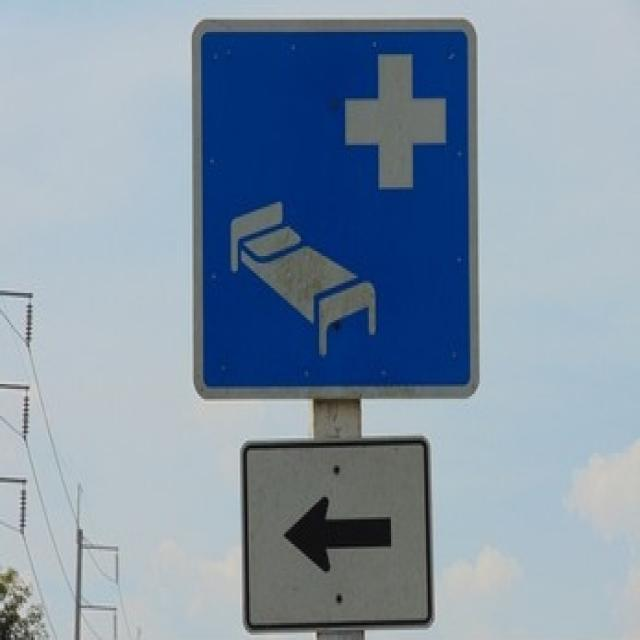hospital ahead: (190, 19, 479, 399)
